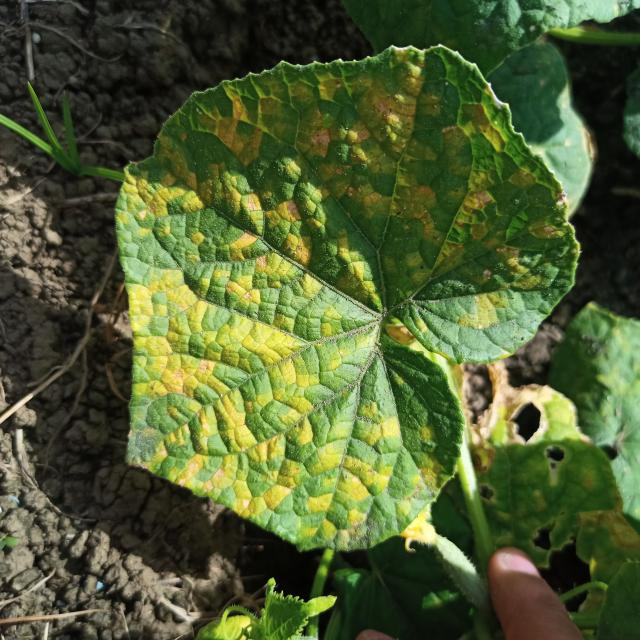disease_cucumber: (123, 52, 548, 540)
